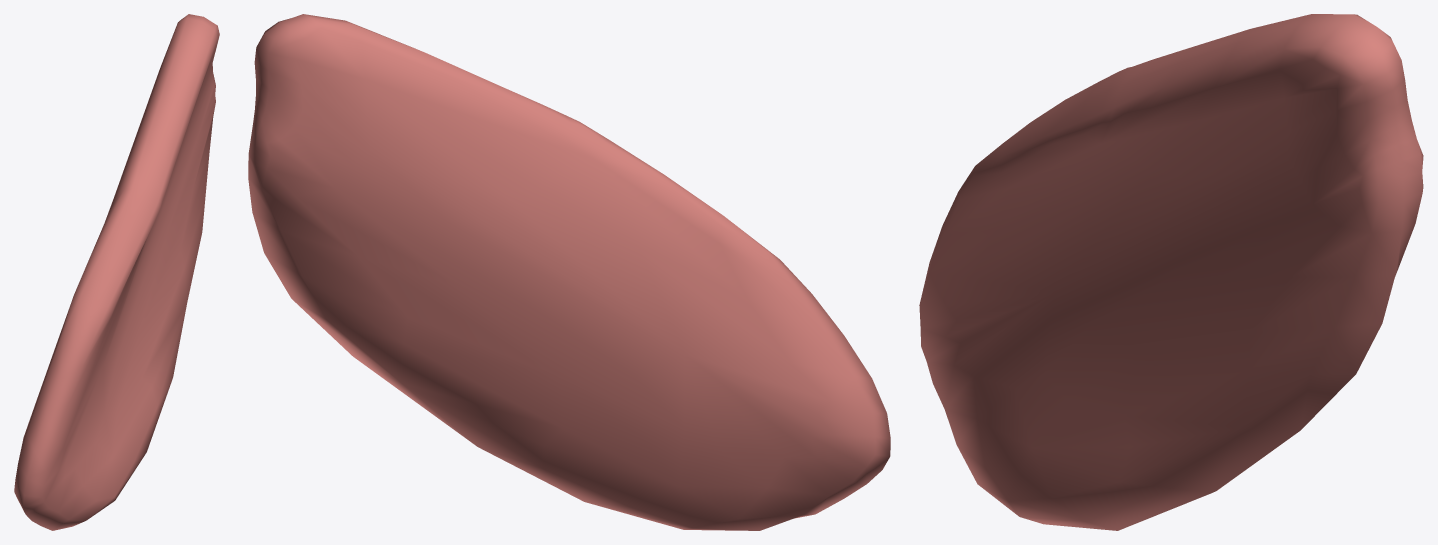
The picture shows the model from 3 angles, left to right: view 1: azimuth 30°, elevation 25°; view 2: azimuth 150°, elevation 25°; view 3: azimuth 270°, elevation 25°; orthographic projection. The views are drawn at different scales.
Parts seen in each view (by area): view 1: ZA_be603d95beb23491; view 2: ZA_be603d95beb23491; view 3: ZA_be603d95beb23491.
Boxes of the visible parts, x1,y1,x2,y2 form: ZA_be603d95beb23491: (14,14,219,530); ZA_be603d95beb23491: (248,14,890,530); ZA_be603d95beb23491: (919,14,1423,530).
Bounding box in the file's own units: 0.00411 × 0.00464 × 0.00321.
